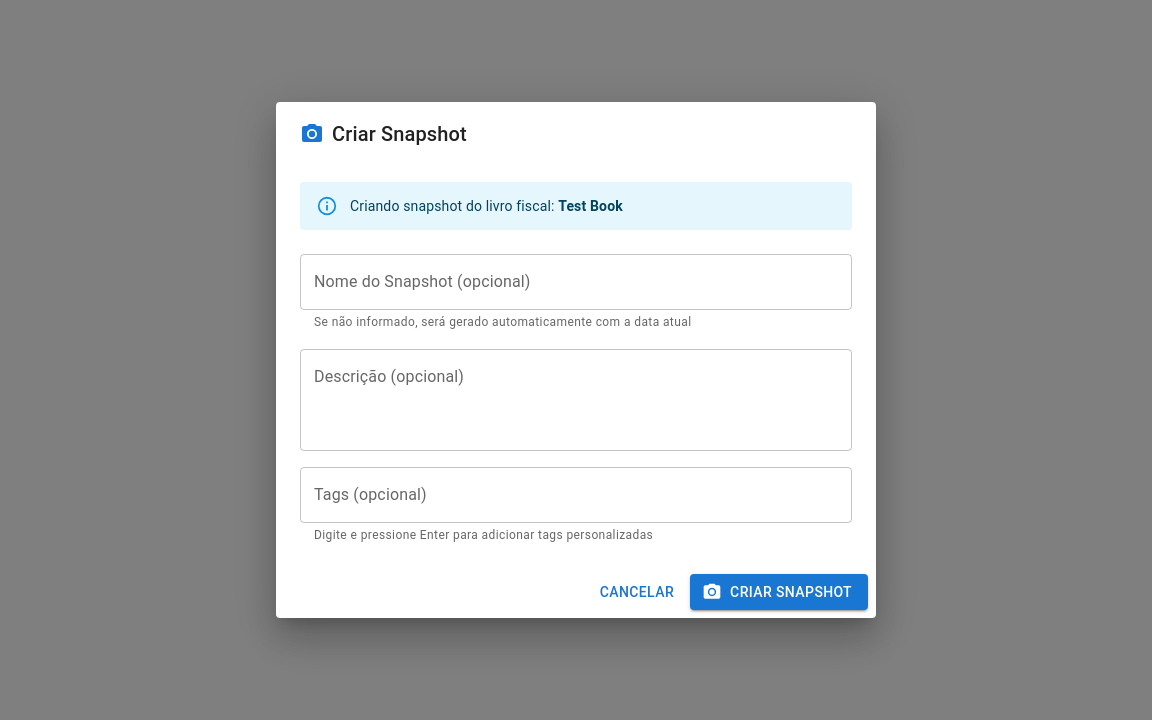
Test: CreateSnapshotDialog › shows error message on failure
Step 1. Click the button "Criar Snapshot" → (779, 592), box [690,574,868,610]
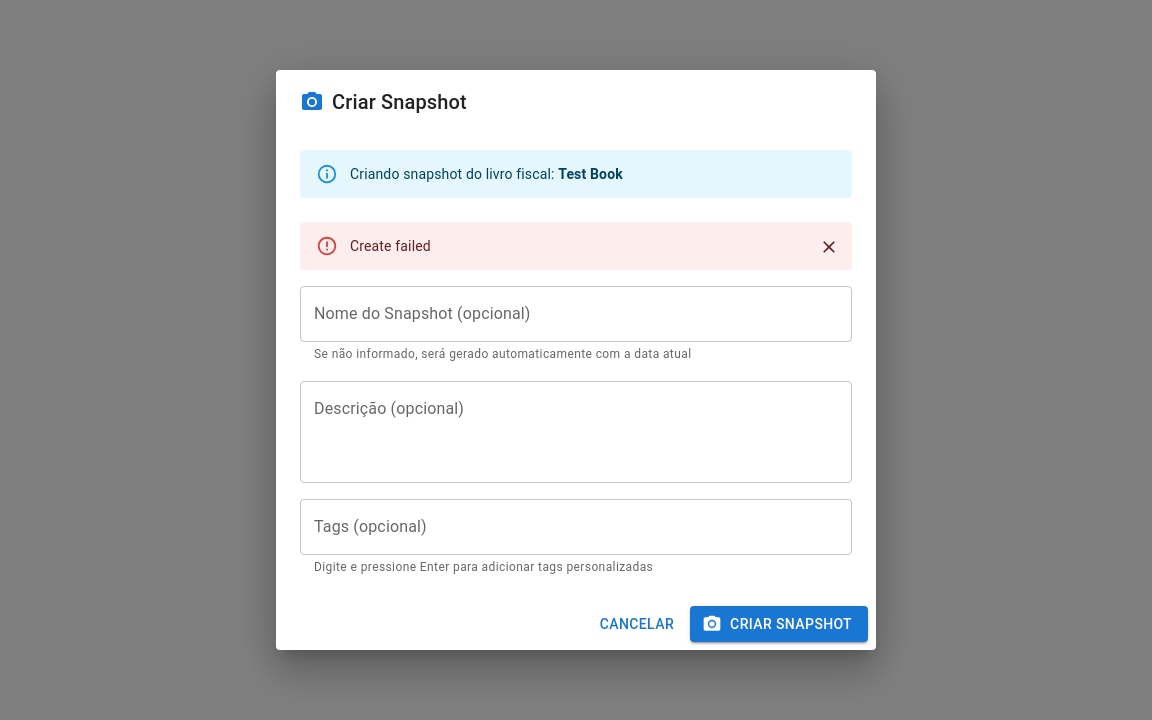
Check: the text "Create failed" is shown, box [350,238,431,254]
